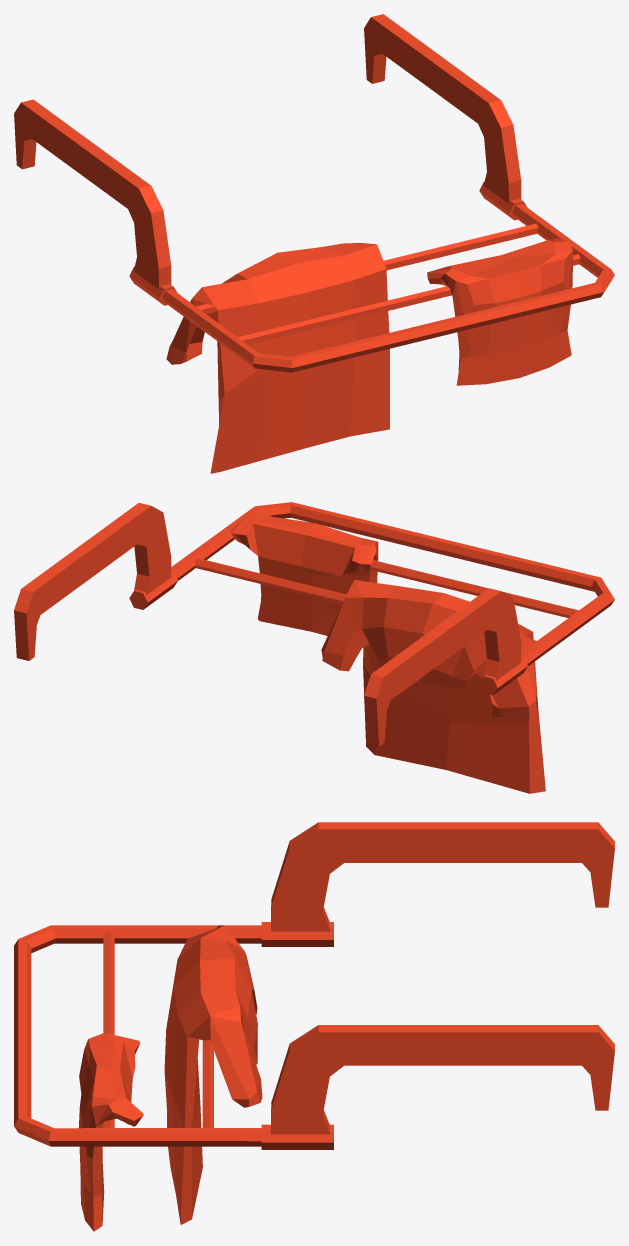
File: SM_Drying_Rack_A_City.fbx
3 renders of one model, top to bottom at view 1: azimuth 30°, elevation 25°; view 2: azimuth 150°, elevation 25°; view 3: azimuth 270°, elevation 25°, orthographic. The views are drawn at different scales.
Parts seen in each view (by area): view 1: SM_Drying_Rack_A_City; view 2: SM_Drying_Rack_A_City; view 3: SM_Drying_Rack_A_City.
Boxes of the visible parts, x1,y1,x2,y2 form: SM_Drying_Rack_A_City: (14, 14, 614, 473); SM_Drying_Rack_A_City: (14, 502, 614, 793); SM_Drying_Rack_A_City: (14, 822, 614, 1231).
Bounding box in the file's own units: 0.811 × 0.5245 × 0.9649.
